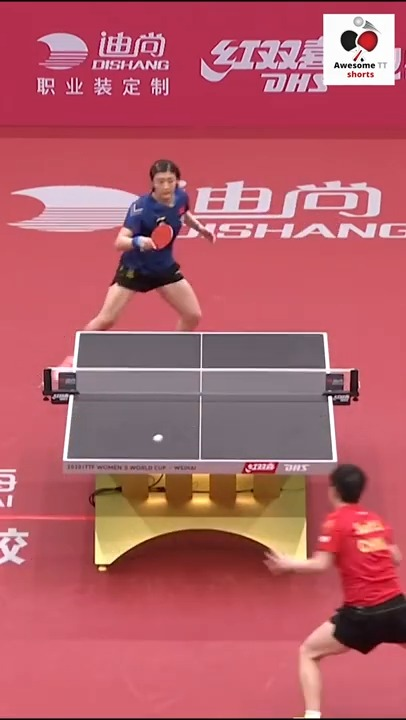Ball: (153, 431, 166, 448)
